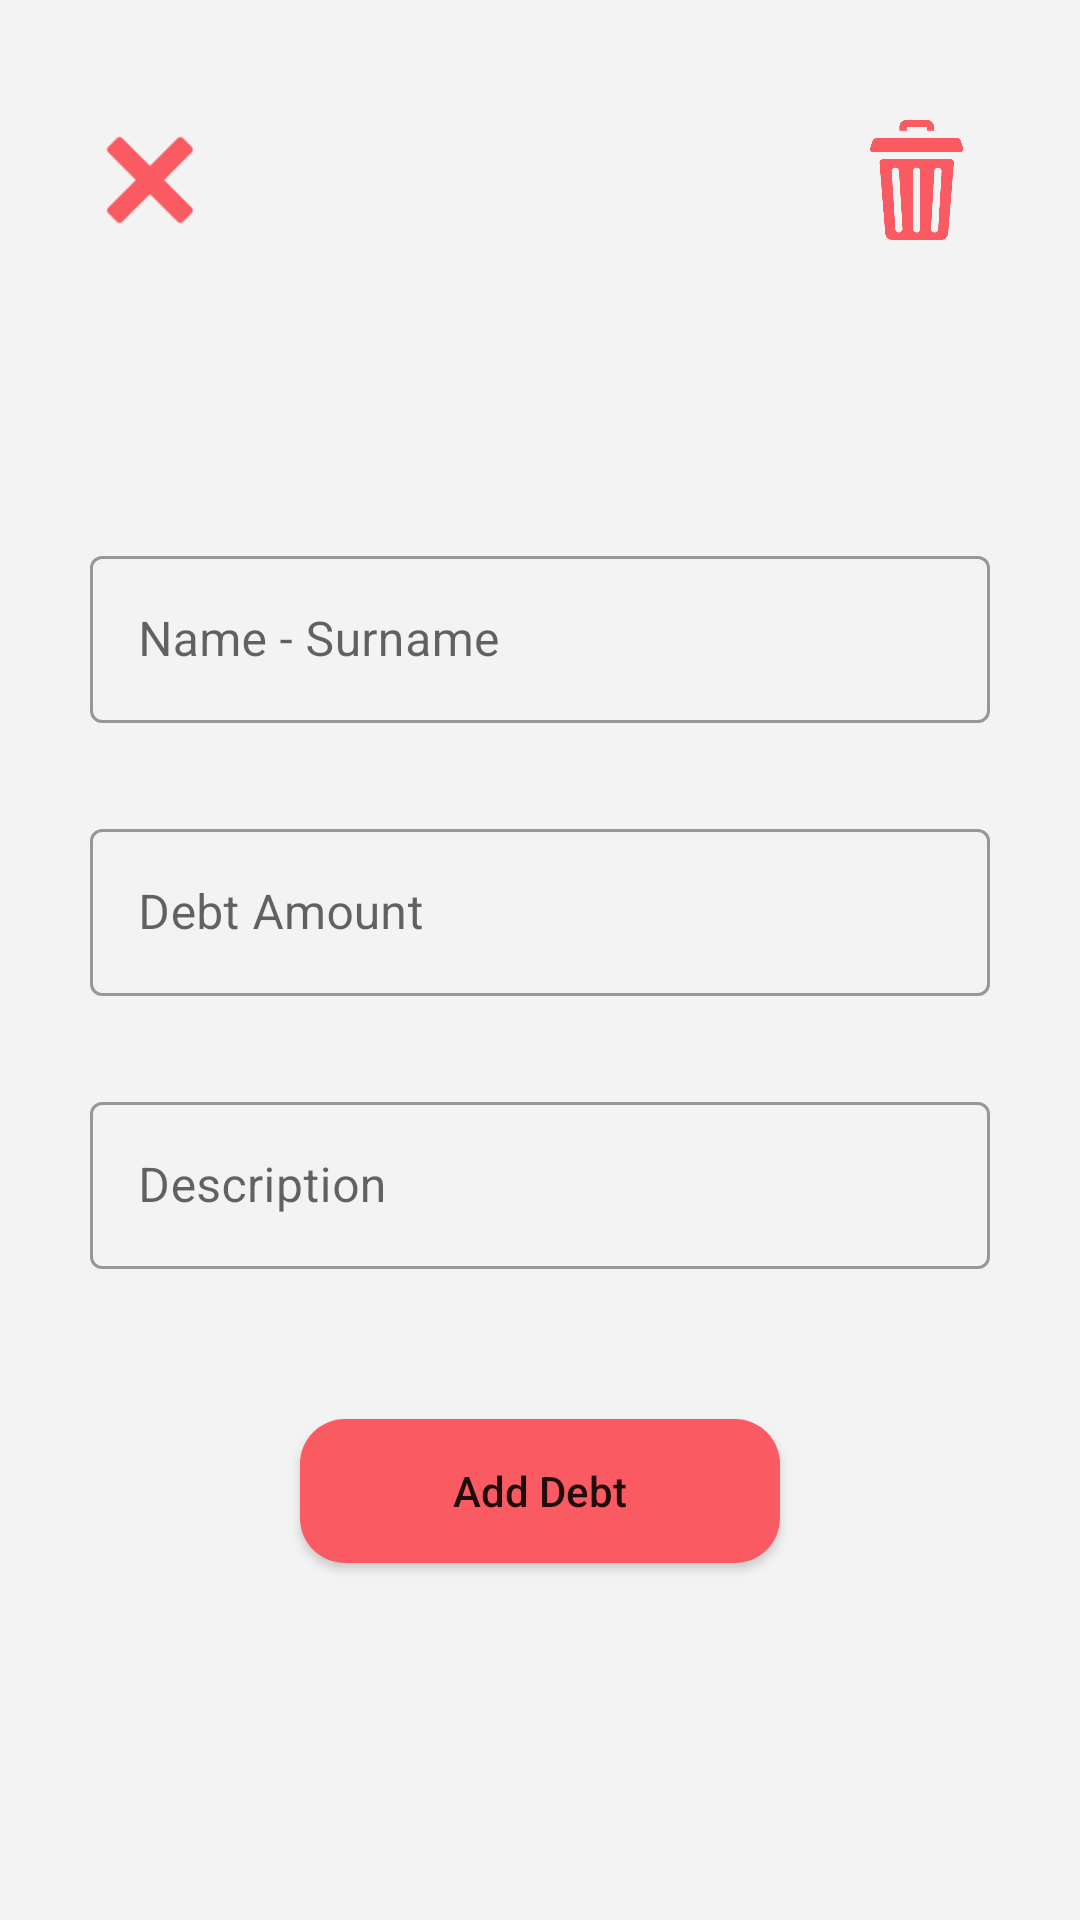

Point at icon controls on the screen. Image size 1080*1920, points as [x,y].
cross: [150,180]
delete: [916,180]
